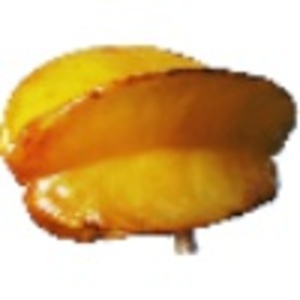carambola: (1, 42, 300, 257)
